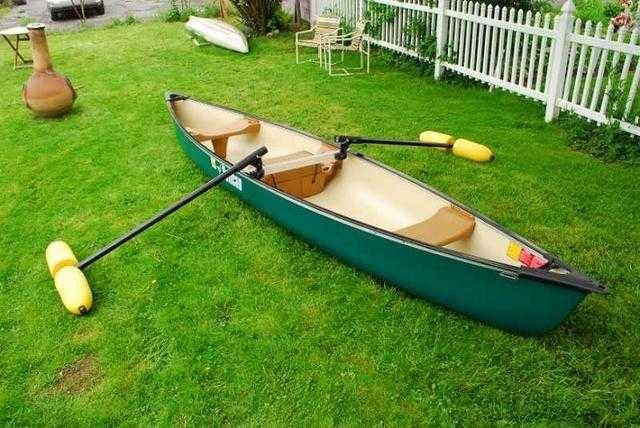kayak: (166, 90, 609, 339), (184, 15, 249, 54), (46, 0, 105, 21)
